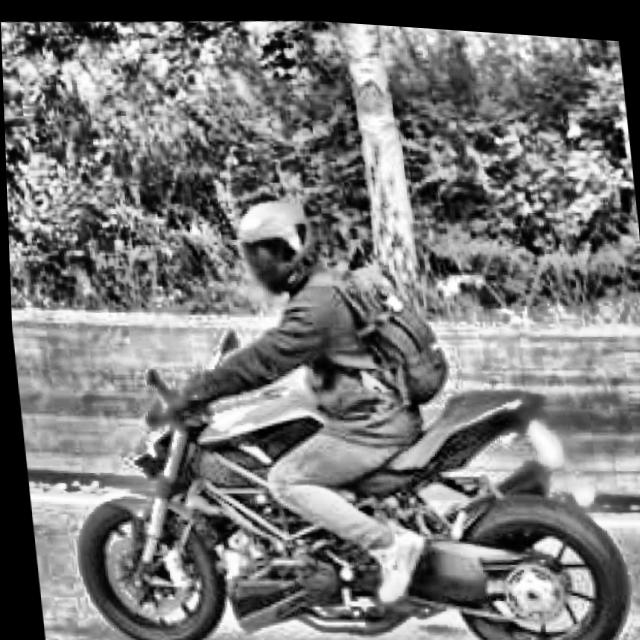motorcycle: (38, 287, 635, 640)
